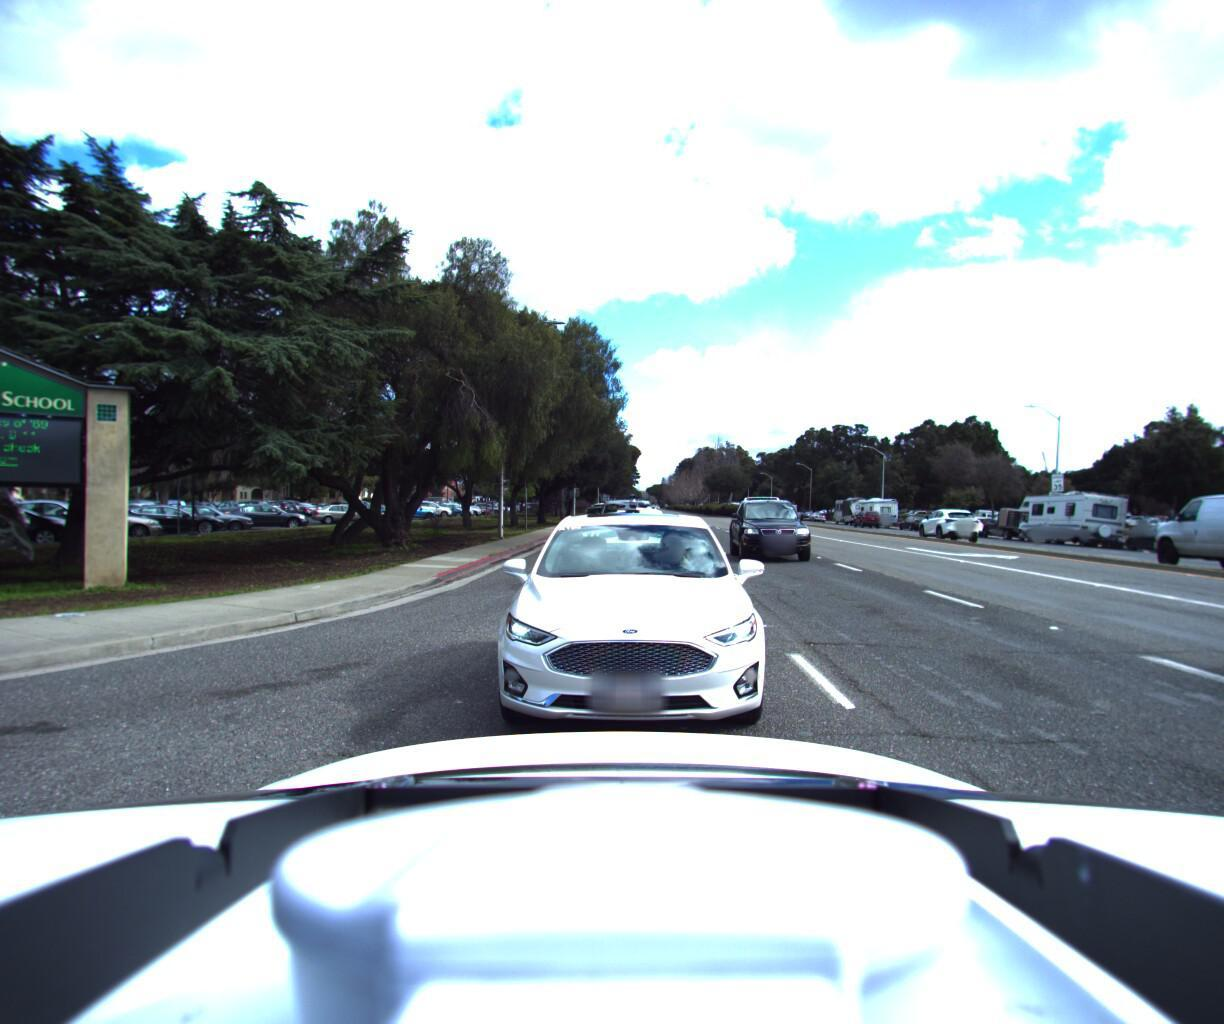car: (476, 503, 781, 756), (570, 493, 673, 592), (1120, 483, 1224, 581), (726, 497, 816, 569), (618, 497, 691, 568), (587, 496, 644, 549), (906, 506, 975, 543), (942, 518, 987, 538), (848, 509, 879, 528)
other_vehicle: (1012, 487, 1131, 553), (979, 505, 1044, 546)
